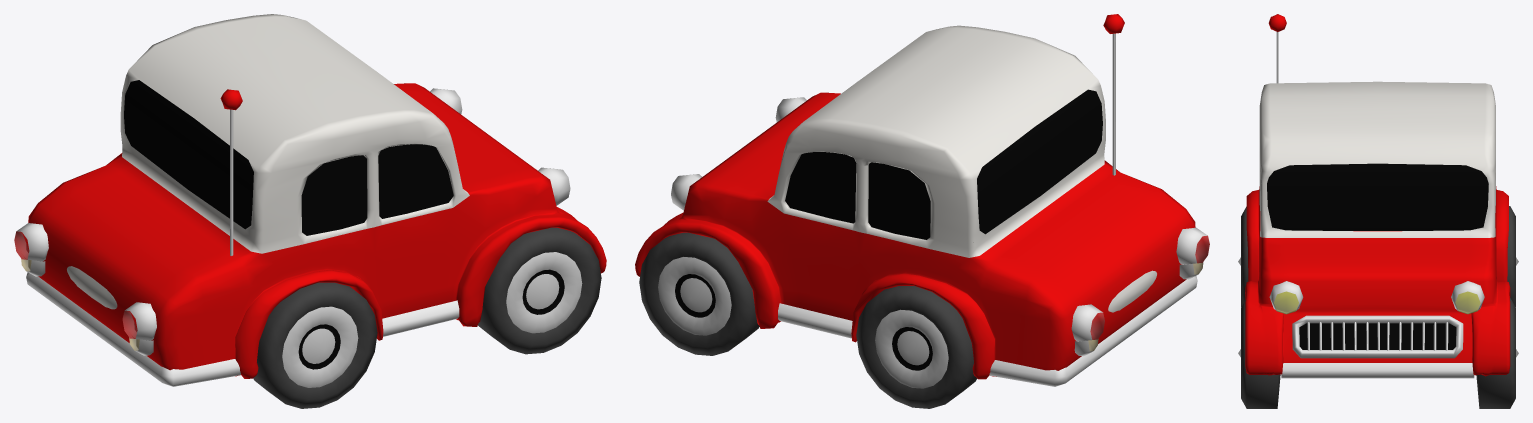
The model's file is Car1.fbx.
The picture shows the model from 3 angles, left to right: view 1: azimuth 30°, elevation 25°; view 2: azimuth 150°, elevation 25°; view 3: azimuth 270°, elevation 25°; orthographic projection. The views are drawn at different scales.
Visible parts, largest first — view 1: Car1Body, Car1Tires, Car1Windows1, car1trim, car1Lights, Car1Antenna, polySurface56; view 2: Car1Body, Car1Tires, Car1Windows1, car1trim, car1Lights, Car1Antenna, polySurface56; view 3: Car1Body, Car1Windows1, Car1Grill, Car1Tires, car1trim, car1Lights, Car1Antenna.
Boxes of the visible parts, bbox=[...] form: Car1Body: bbox=[28, 14, 606, 378]; Car1Tires: bbox=[253, 227, 601, 408]; Car1Windows1: bbox=[124, 80, 453, 235]; car1trim: bbox=[26, 272, 459, 386]; car1Lights: bbox=[14, 88, 570, 355]; Car1Antenna: bbox=[220, 89, 242, 255]; polySurface56: bbox=[67, 266, 117, 309]; Car1Body: bbox=[635, 25, 1195, 379]; Car1Tires: bbox=[639, 232, 977, 408]; Car1Windows1: bbox=[785, 89, 1102, 239]; car1trim: bbox=[778, 276, 1197, 386]; car1Lights: bbox=[671, 97, 1209, 356]; Car1Antenna: bbox=[1103, 14, 1124, 175]; polySurface56: bbox=[1108, 270, 1156, 312]; Car1Body: bbox=[1245, 81, 1510, 376]; Car1Windows1: bbox=[1267, 163, 1488, 230]; Car1Grill: bbox=[1292, 315, 1463, 358]; Car1Tires: bbox=[1238, 206, 1518, 408]; car1trim: bbox=[1281, 363, 1474, 378]; car1Lights: bbox=[1269, 281, 1484, 314]; Car1Antenna: bbox=[1268, 14, 1286, 83].
Size of the model in its own units: 7.54 by 5.09 by 4.82.
